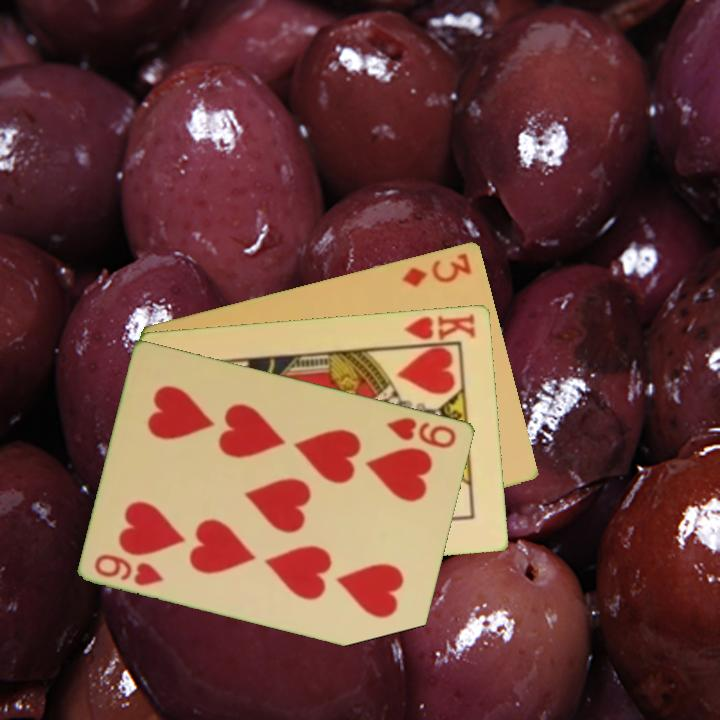3d: (398, 248, 475, 289)
9h: (91, 550, 167, 589), (384, 413, 460, 451)
Kh: (398, 309, 479, 349)
